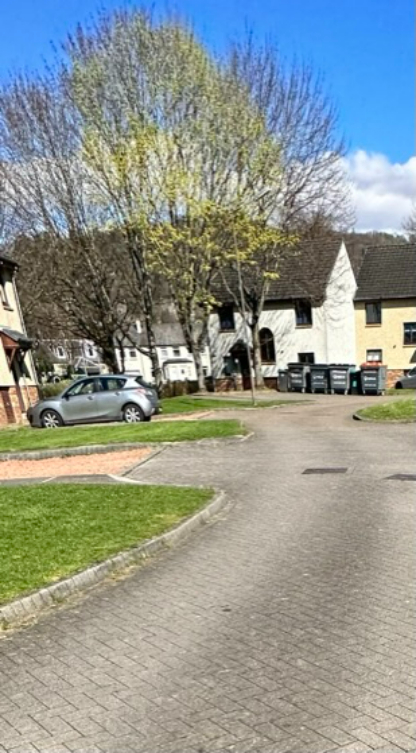car: (25, 356, 153, 435)
tree: (82, 0, 242, 381), (187, 20, 354, 372), (2, 67, 131, 360)
